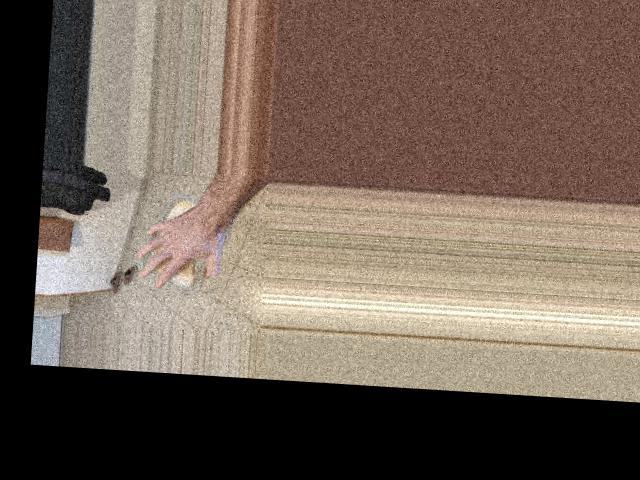cheese: (135, 195, 233, 293)
